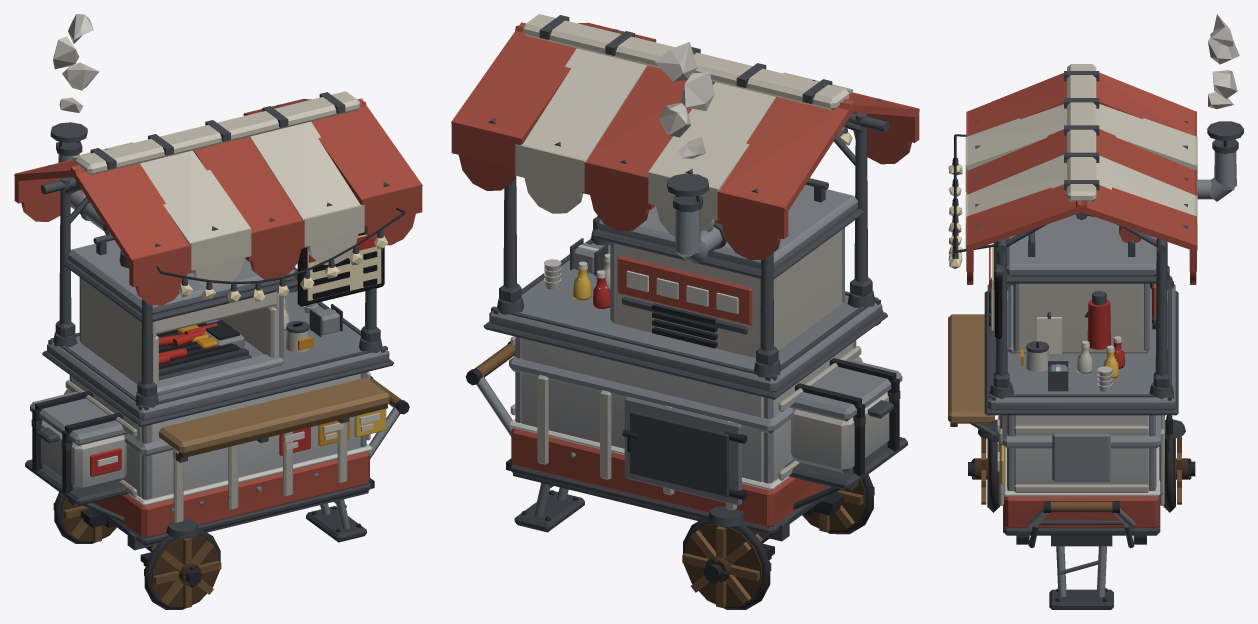
File: food_cart_01.glb
The picture shows the model from 3 angles, left to right: view 1: azimuth 30°, elevation 25°; view 2: azimuth 150°, elevation 25°; view 3: azimuth 270°, elevation 25°; orthographic projection. The views are drawn at different scales.
Visible parts, largest first — view 1: food_cart_01; view 2: food_cart_01; view 3: food_cart_01.
Boxes of the visible parts, x1,y1,x2,y2 form: food_cart_01: [14, 14, 422, 609]; food_cart_01: [451, 14, 919, 609]; food_cart_01: [948, 14, 1243, 609].
Bounding box in the file's own units: 2.68 × 3.75 × 2.01.
